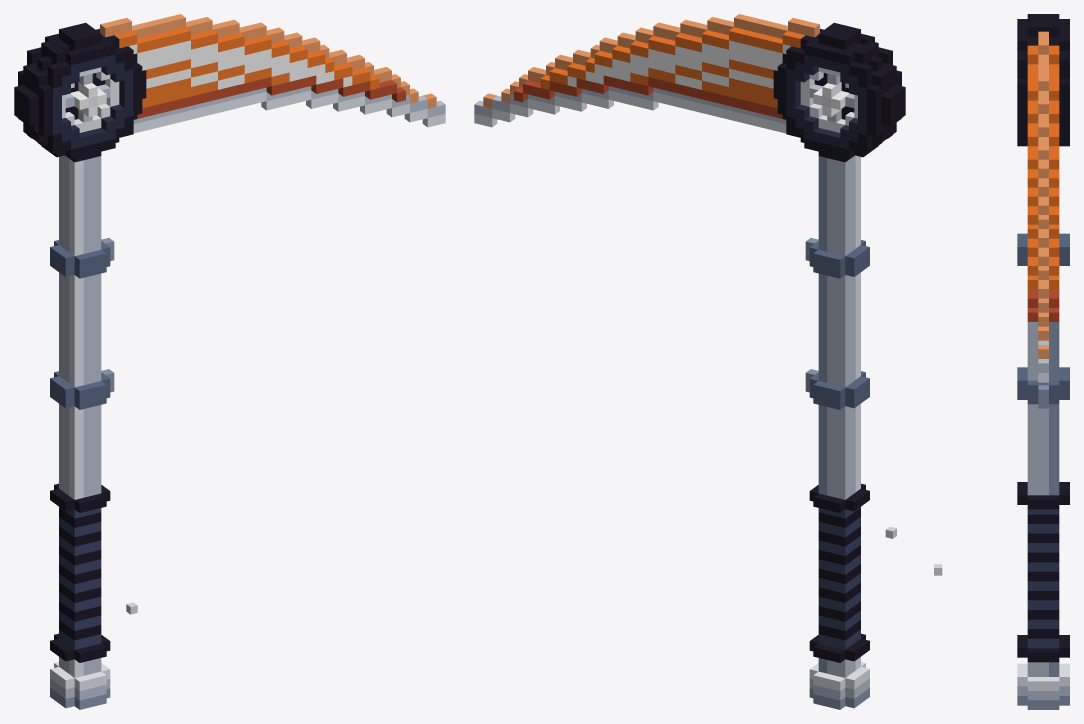
Rendered from TyreScythe.fbx.
3 renders of one model, left to right at view 1: azimuth 30°, elevation 25°; view 2: azimuth 150°, elevation 25°; view 3: azimuth 270°, elevation 25°, orthographic.
Visible parts, largest first — view 1: chrome, chrome_l, tyre, paint, stripe, grip, paint_l, tyre_l, grip_l, steel_d, paint_d, chrome_d; view 2: chrome, tyre, chrome_l, paint, stripe, grip, paint_l, chrome_d, tyre_l, grip_l, steel_d, paint_d; view 3: paint, grip, chrome, tyre, paint_l, chrome_d, grip_l, steel_d, chrome_l, paint_d.
Boxes of the visible parts, x1=… form: chrome: x1=50, y1=73, x2=445, y2=700; chrome_l: x1=50, y1=67, x2=445, y2=690; tyre: x1=14, y1=22, x2=146, y2=162; paint: x1=114, y1=27, x2=379, y2=108; stripe: x1=70, y1=40, x2=352, y2=116; grip: x1=50, y1=483, x2=110, y2=662; paint_l: x1=100, y1=14, x2=436, y2=108; tyre_l: x1=53, y1=54, x2=133, y2=149; grip_l: x1=59, y1=507, x2=101, y2=649; steel_d: x1=50, y1=240, x2=110, y2=409; paint_d: x1=137, y1=75, x2=405, y2=118; chrome_d: x1=50, y1=238, x2=114, y2=709; chrome: x1=474, y1=73, x2=869, y2=700; tyre: x1=773, y1=22, x2=905, y2=162; chrome_l: x1=474, y1=67, x2=869, y2=690; paint: x1=540, y1=27, x2=805, y2=108; stripe: x1=567, y1=40, x2=849, y2=116; grip: x1=809, y1=483, x2=869, y2=662; paint_l: x1=483, y1=14, x2=819, y2=108; chrome_d: x1=805, y1=156, x2=869, y2=709; tyre_l: x1=786, y1=54, x2=866, y2=149; grip_l: x1=818, y1=507, x2=860, y2=649; steel_d: x1=809, y1=240, x2=869, y2=409; paint_d: x1=514, y1=75, x2=782, y2=118; paint: x1=1027, y1=45, x2=1059, y2=289; grip: x1=1017, y1=482, x2=1069, y2=662; chrome: x1=1017, y1=322, x2=1069, y2=700; tyre: x1=1017, y1=14, x2=1069, y2=146; paint_l: x1=1038, y1=31, x2=1048, y2=358; chrome_d: x1=1017, y1=322, x2=1069, y2=709; grip_l: x1=1027, y1=509, x2=1059, y2=648; steel_d: x1=1017, y1=233, x2=1069, y2=404; chrome_l: x1=1017, y1=373, x2=1069, y2=690; paint_d: x1=1027, y1=289, x2=1059, y2=321.
Size of the model in its own units: 470 by 710 by 129.
